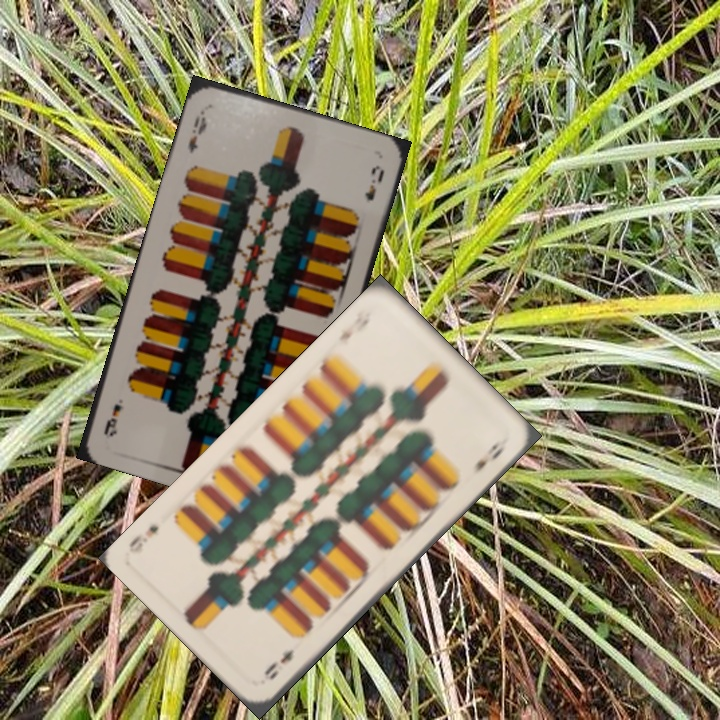E9: (260, 644, 297, 683), (334, 307, 374, 343), (184, 106, 210, 156)
